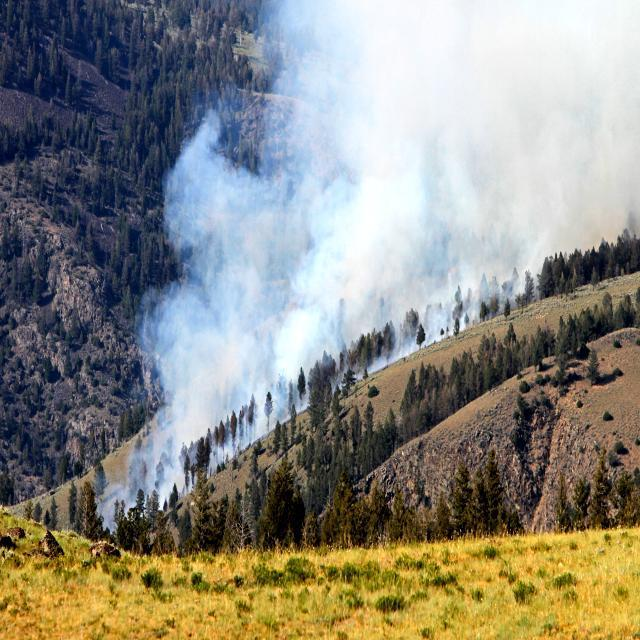Smoke: (118, 0, 640, 506)
